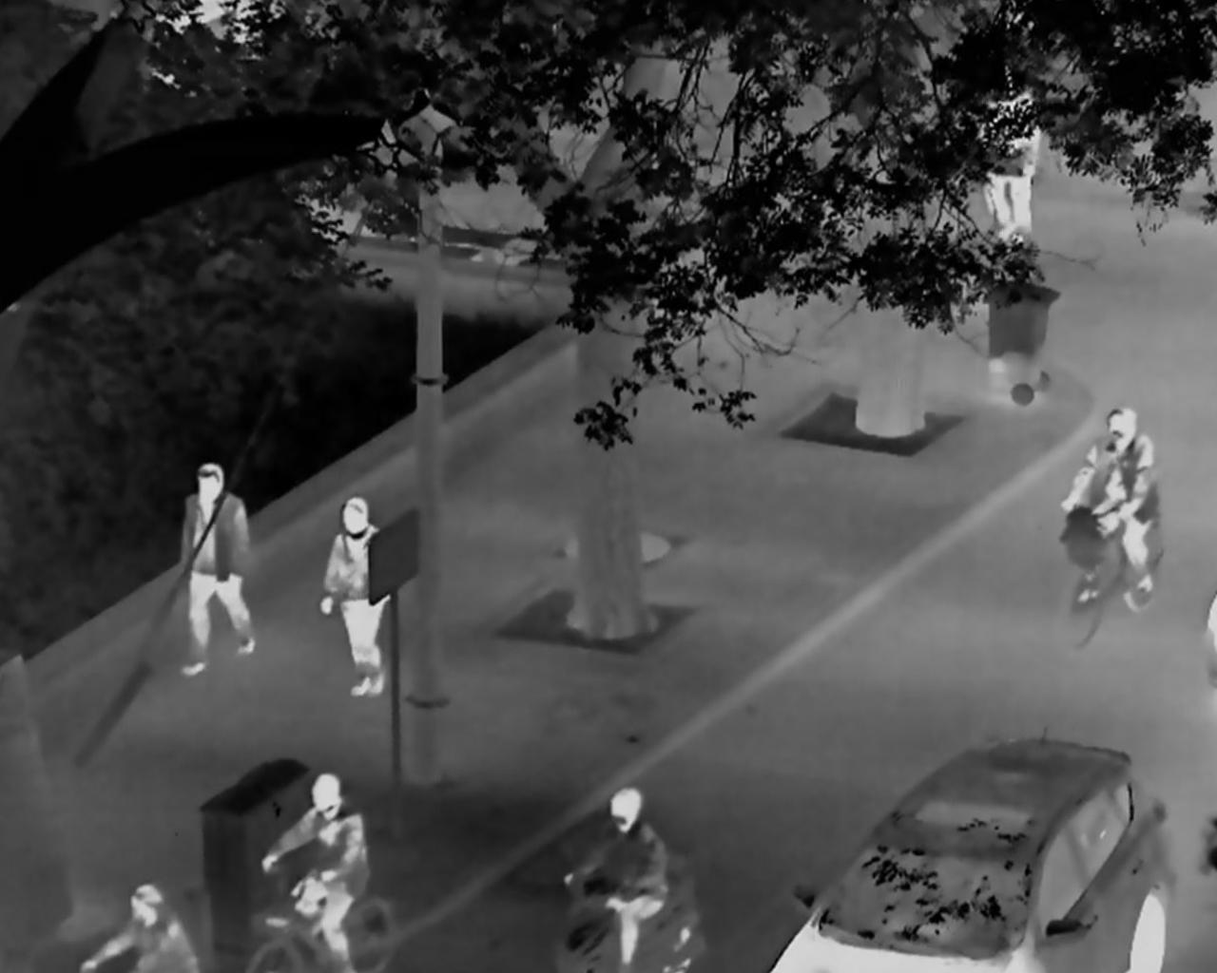person: (260, 771, 371, 973), (565, 788, 670, 973), (1061, 408, 1158, 602), (179, 461, 257, 677), (318, 494, 391, 699), (976, 71, 1042, 241), (79, 883, 201, 973)
